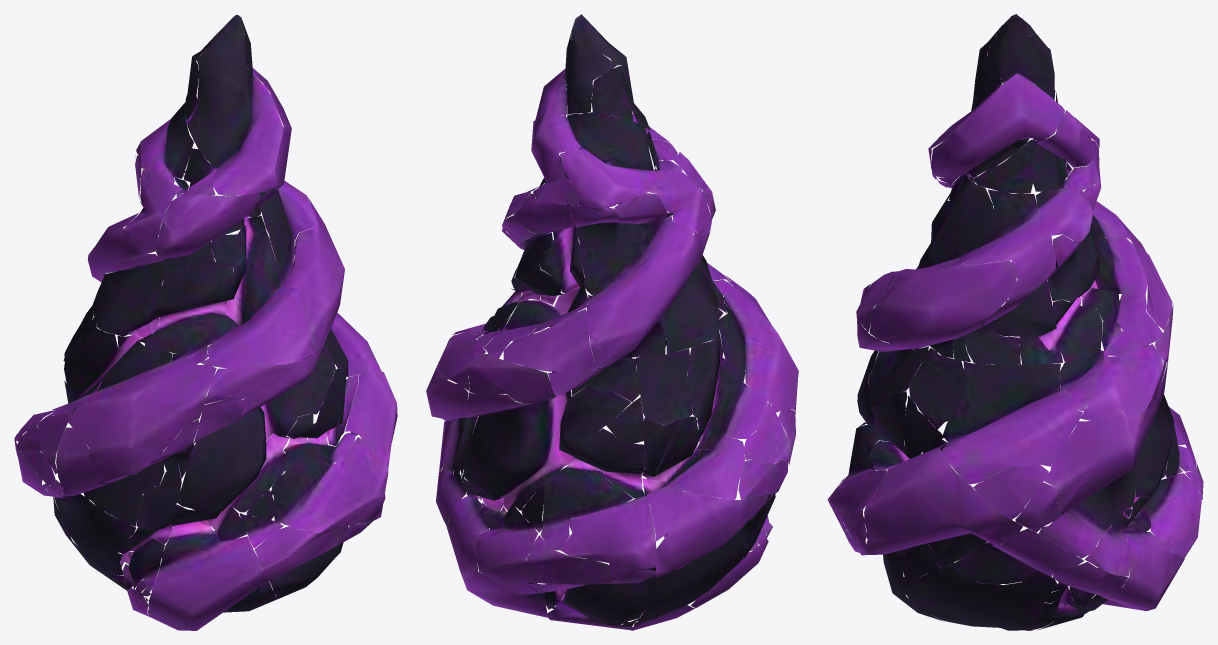
The model's file is void-projectile.glb.
The picture shows the model from 3 angles, left to right: view 1: azimuth 30°, elevation 25°; view 2: azimuth 150°, elevation 25°; view 3: azimuth 270°, elevation 25°; orthographic projection. The views are drawn at different scales.
Parts seen in each view (by area): view 1: tripo_node_594c342b-4f63-4265-a966-167ed3d93b1e; view 2: tripo_node_594c342b-4f63-4265-a966-167ed3d93b1e; view 3: tripo_node_594c342b-4f63-4265-a966-167ed3d93b1e.
Boxes of the visible parts, bbox=[...] form: tripo_node_594c342b-4f63-4265-a966-167ed3d93b1e: bbox=[14, 14, 397, 630]; tripo_node_594c342b-4f63-4265-a966-167ed3d93b1e: bbox=[426, 14, 798, 630]; tripo_node_594c342b-4f63-4265-a966-167ed3d93b1e: bbox=[827, 14, 1203, 630].
Size of the model in its own units: 0.5803 by 0.9794 by 0.5381.
Materials: 1 (1 with a texture image).
